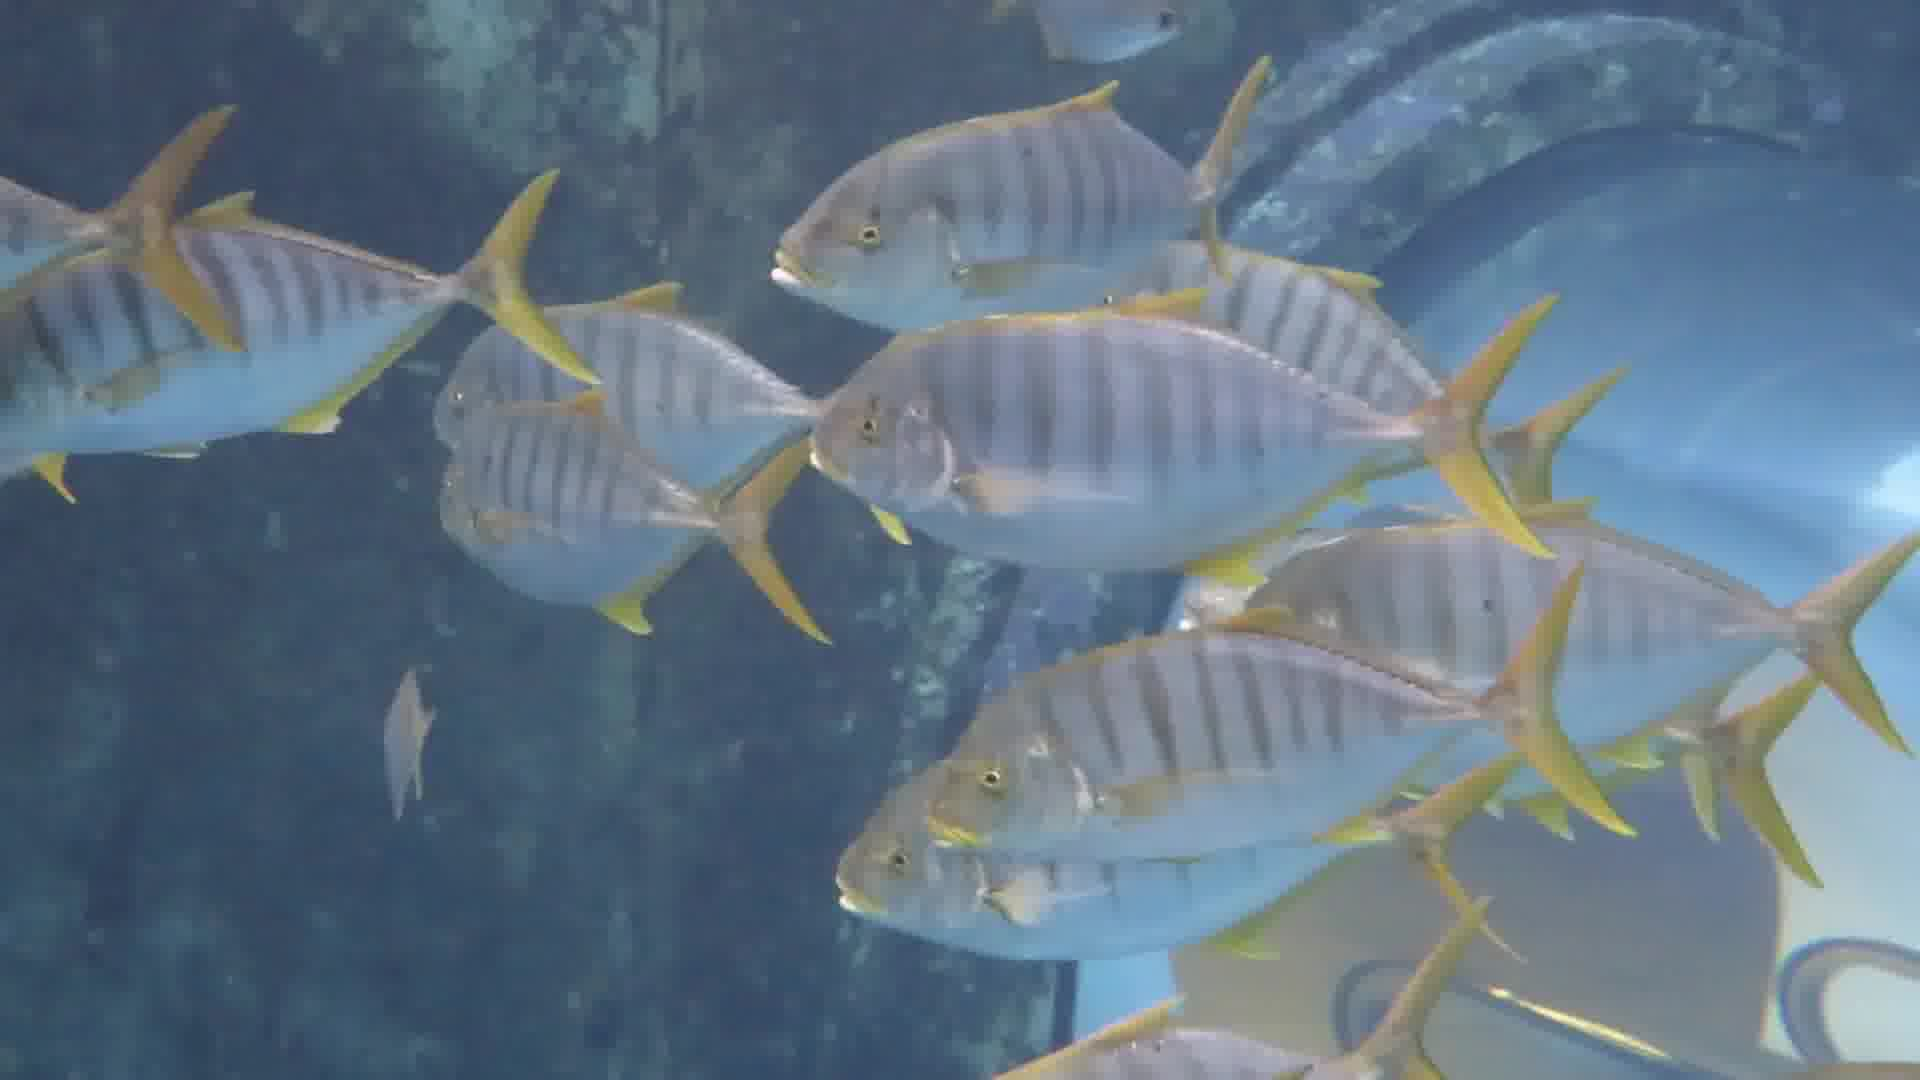Gnathanodon speciosus: (787, 319, 1509, 568), (914, 593, 1544, 874), (749, 120, 1332, 313), (401, 415, 819, 636)
